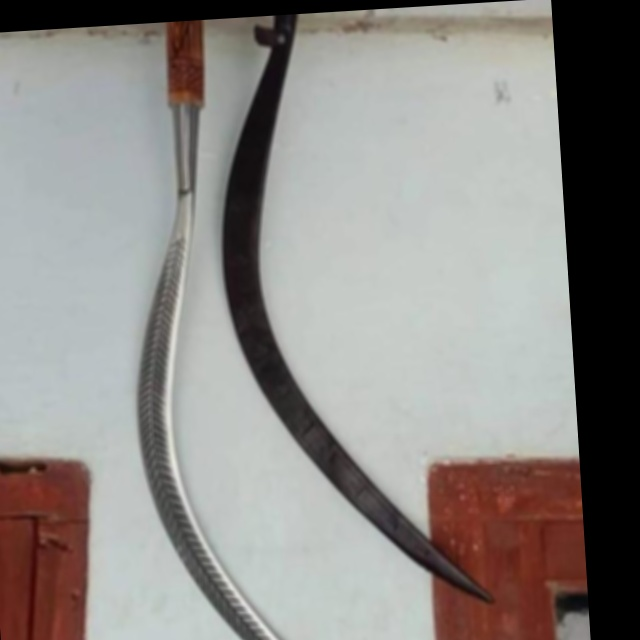Sharp-Object: (99, 22, 309, 640)
